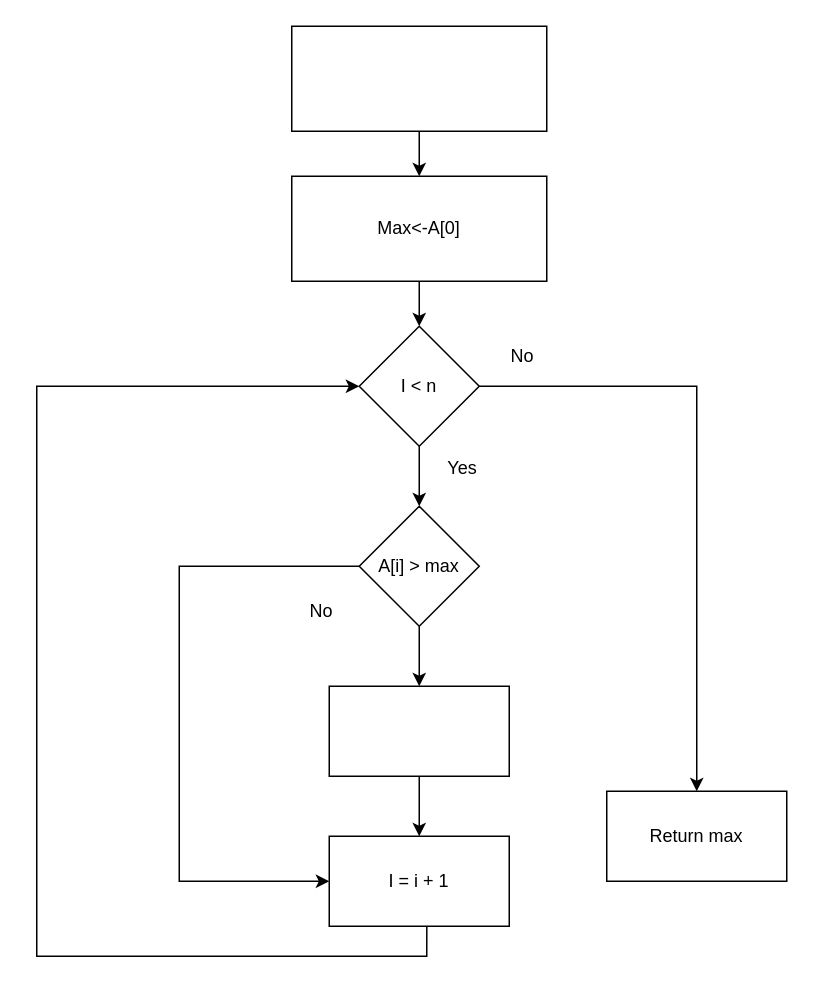
Image size: 813x995. Some labels were removed from this diagram. The shapes that lost their labels are listed below. From the top down, each one's centre as x and y in pixels, then its label:
(x=418, y=78): FindMaximum(A[])
(x=418, y=730): Max<-A[i]
